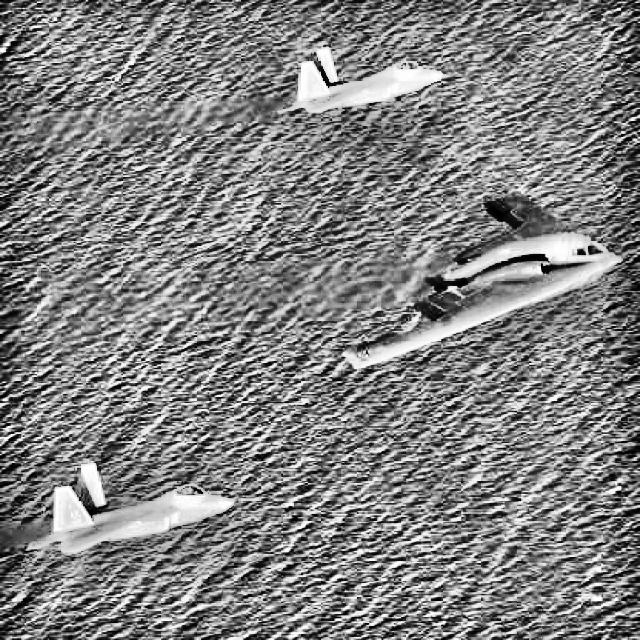B2: (342, 189, 623, 371)
F22: (26, 462, 234, 555), (278, 47, 444, 113)
